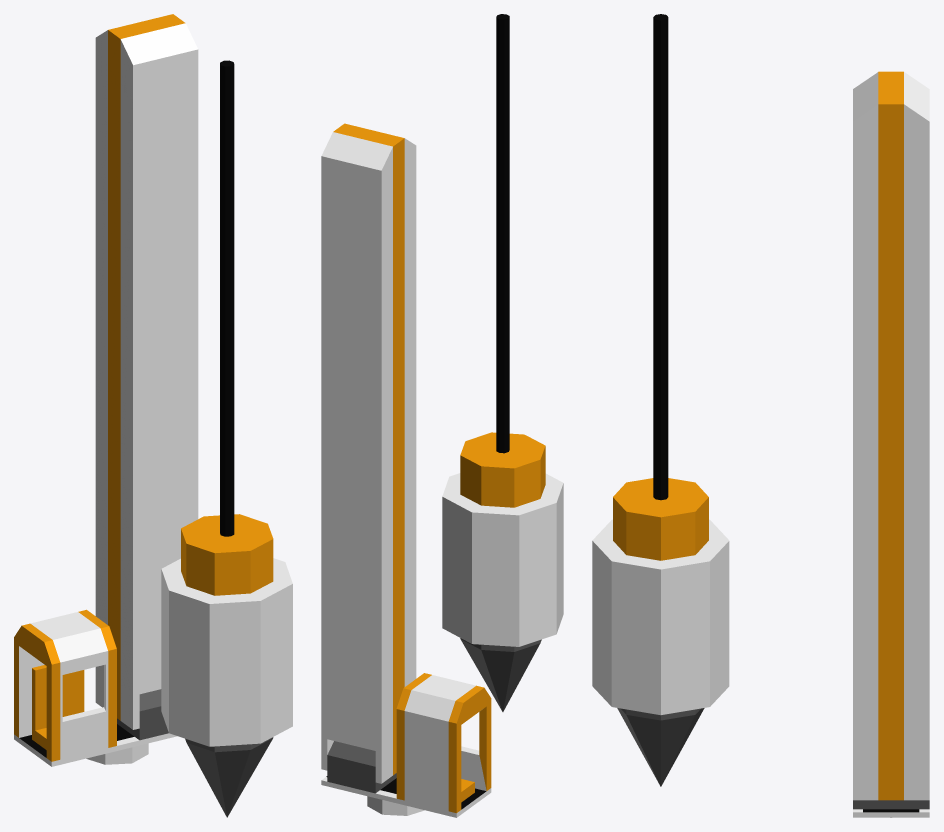
File: Claw.fbx
3 renders of one model, left to right at view 1: azimuth 30°, elevation 25°; view 2: azimuth 150°, elevation 25°; view 3: azimuth 270°, elevation 25°, orthographic. The views are drawn at different scales.
Visible parts, largest first — view 1: Arm, Drill, Cabin, Mover, Base; view 2: Arm, Drill, Cabin, Mover, Base; view 3: Arm, Drill, Mover, Cabin.
Part boxes in pixels (<box>): Arm: <box>95,14,198,729</box>; Drill: <box>161,60,292,817</box>; Cabin: <box>14,609,177,766</box>; Mover: <box>117,689,168,740</box>; Base: <box>86,743,148,764</box>; Arm: <box>321,123,416,783</box>; Drill: <box>442,14,563,711</box>; Cabin: <box>321,673,491,817</box>; Mover: <box>327,741,396,793</box>; Base: <box>367,796,424,815</box>; Arm: <box>853,71,929,800</box>; Drill: <box>592,14,729,786</box>; Mover: <box>853,800,929,809</box>; Cabin: <box>853,809,929,817</box>.
Size of the model in its own units: 900 by 4514 by 1757.
Materials: 1 (1 with a texture image).
